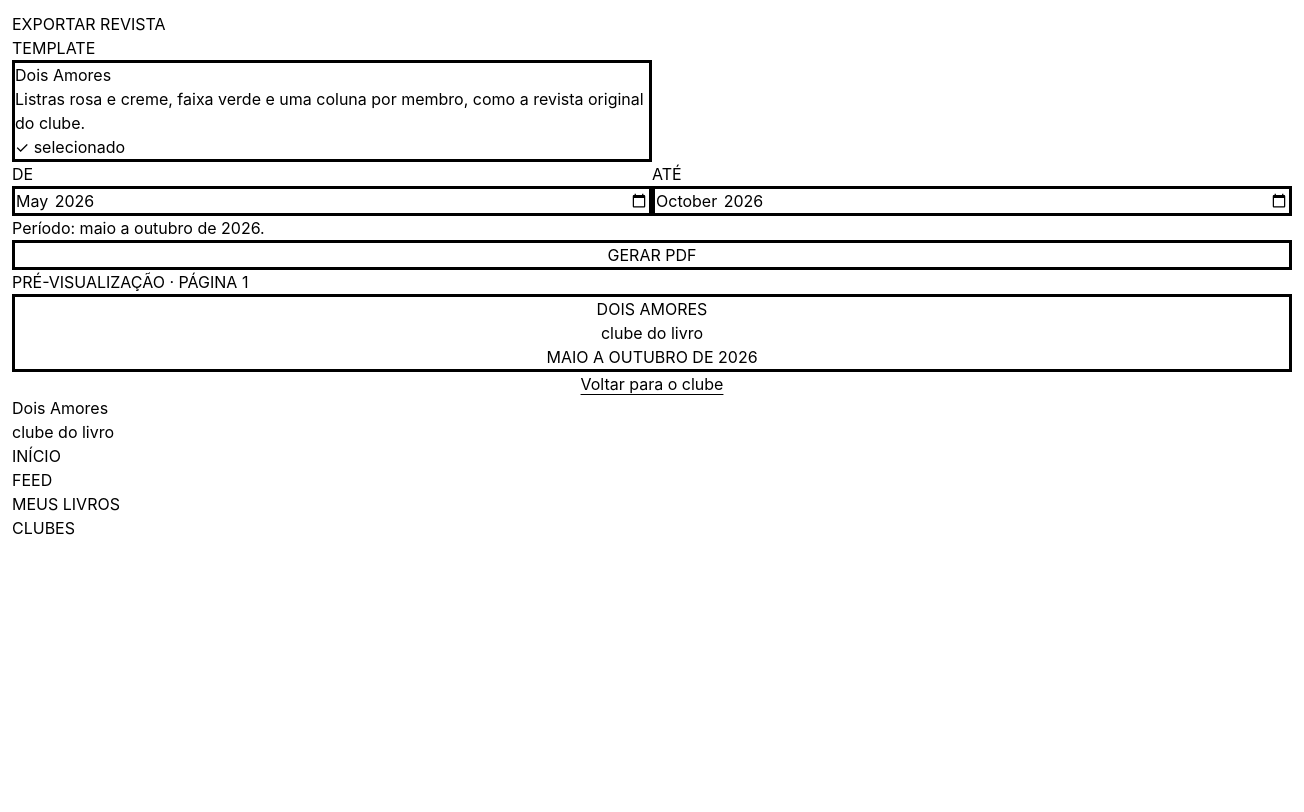
Test: Exportar revista › gera o PDF com os dados do clube e oferece o arquivo
This screenshot has width=1304, height=812.
Click the button "GERAR PDF" at (652, 255), box [12,240,1292,270]
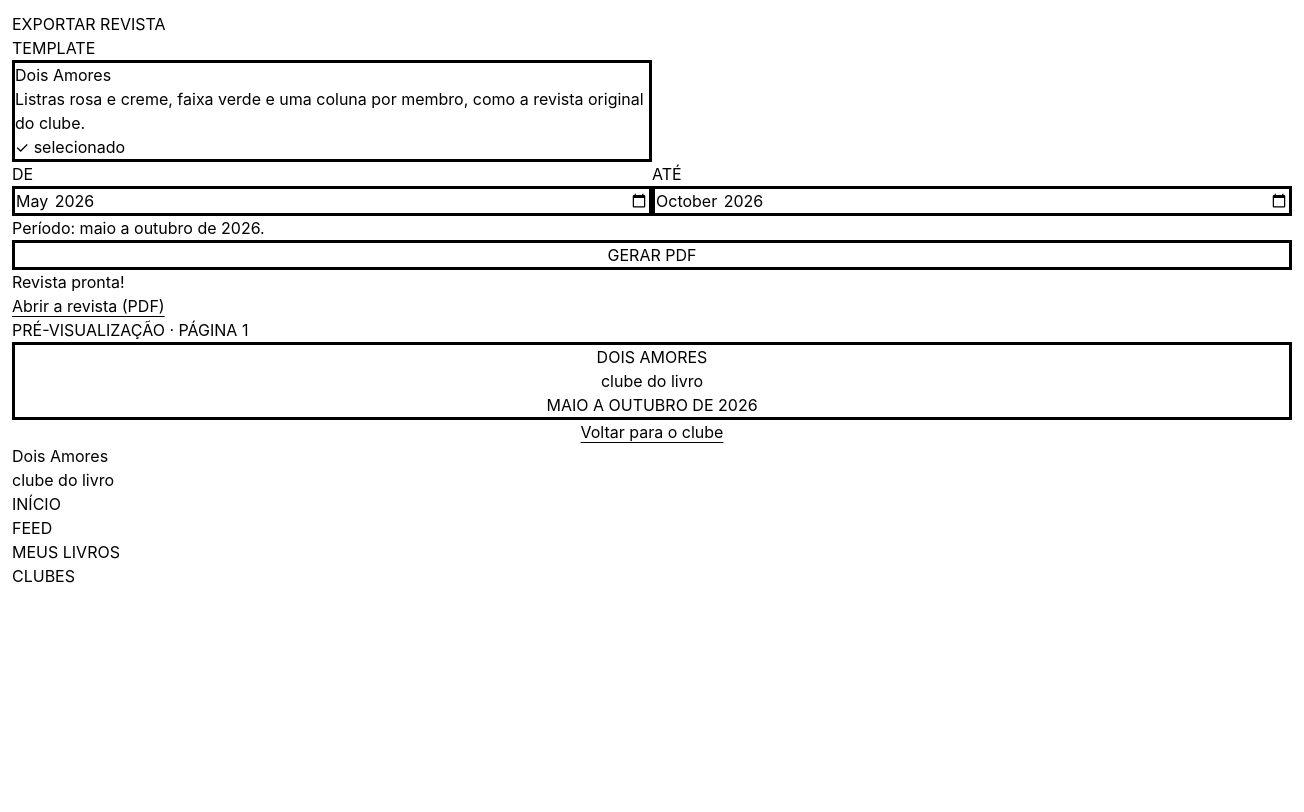
expect the text "Dois Amores" below "Template" is shown: met, box [15,65,111,85]
expect the message reads "Revista pronta!": met, box [12,272,125,292]
